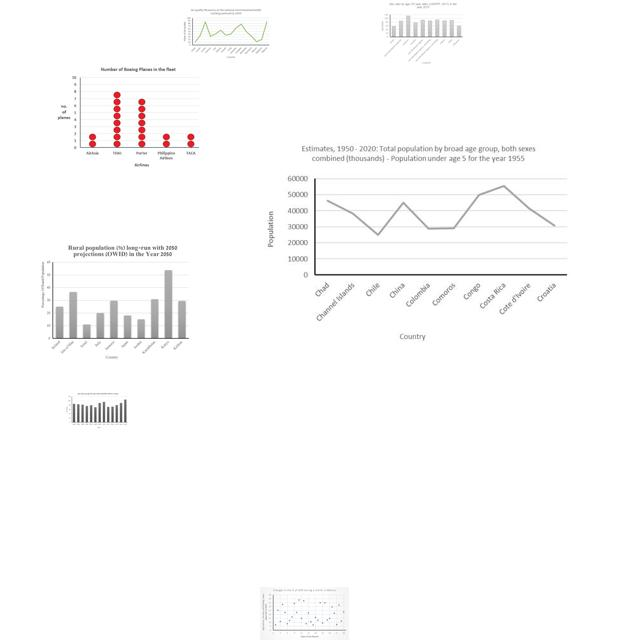Graph: (264, 143, 576, 346), (40, 244, 190, 360), (56, 64, 199, 169), (379, 2, 465, 64), (181, 7, 271, 61), (260, 587, 349, 640), (64, 391, 131, 430)
